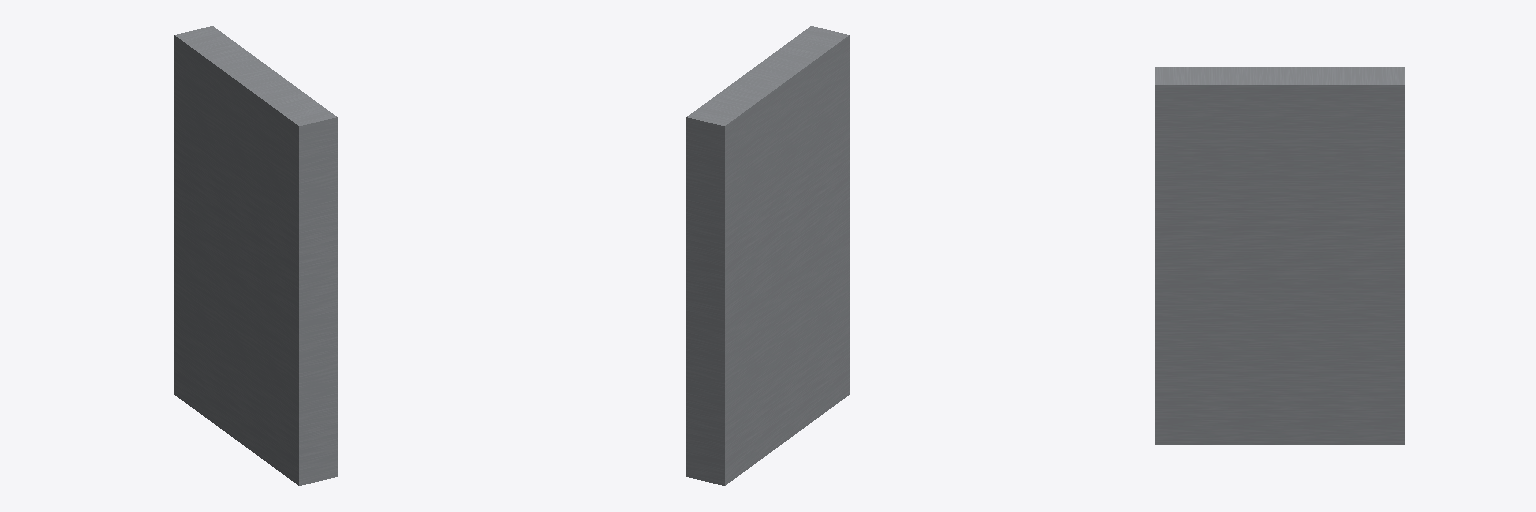
The picture shows the model from 3 angles: view 1: azimuth 30°, elevation 25°; view 2: azimuth 150°, elevation 25°; view 3: azimuth 270°, elevation 25°; orthographic projection.
Visible parts, largest first — view 1: Cube; view 2: Cube; view 3: Cube.
Part boxes in pixels (x1,y1,x2,y2): Cube: (174,26,337,485); Cube: (686,26,849,485); Cube: (1155,67,1404,444).
Bounding box in the file's own units: 0.112 × 1.01 × 0.6344.
1 materials, 1 textured.